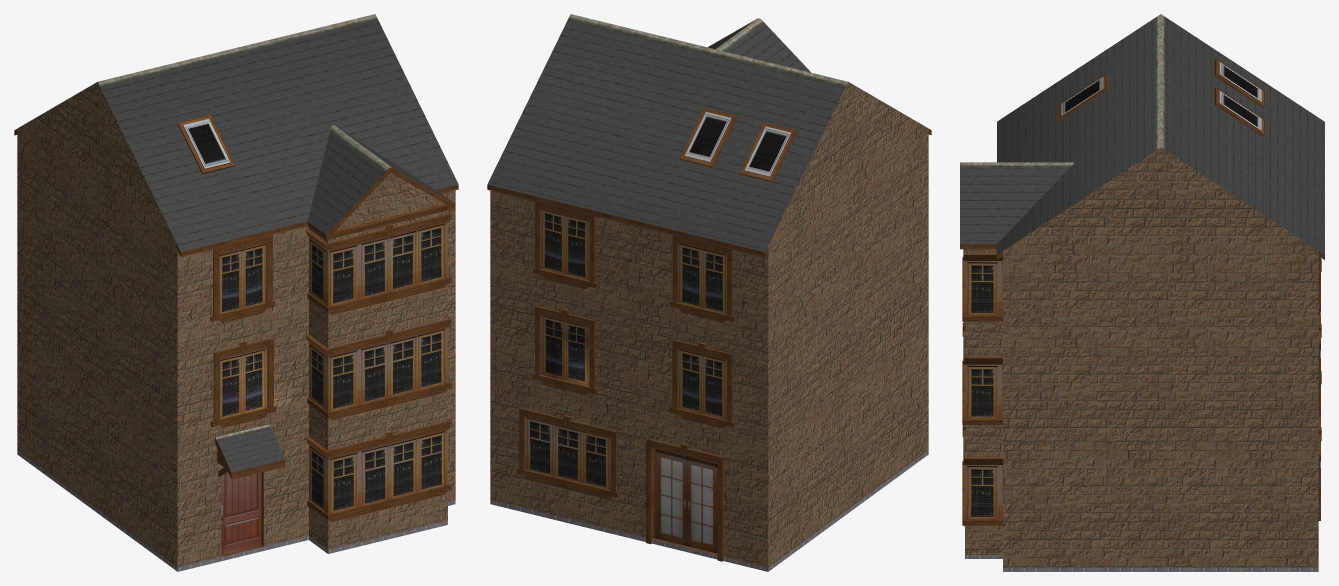
Rendered from modernterrace3story4b.FBX.
3 views of the same model, side by side, from view 1: azimuth 30°, elevation 25°; view 2: azimuth 150°, elevation 25°; view 3: azimuth 270°, elevation 25° (orthographic).
Visible parts, largest first — view 1: Box001; view 2: Box001; view 3: Box001.
Boxes of the visible parts, x1=… form: Box001: x1=14, y1=14, x2=458, y2=571; Box001: x1=487, y1=14, x2=931, y2=571; Box001: x1=960, y1=14, x2=1324, y2=571.
Bounding box in the file's own units: 800 × 1188 × 925.
